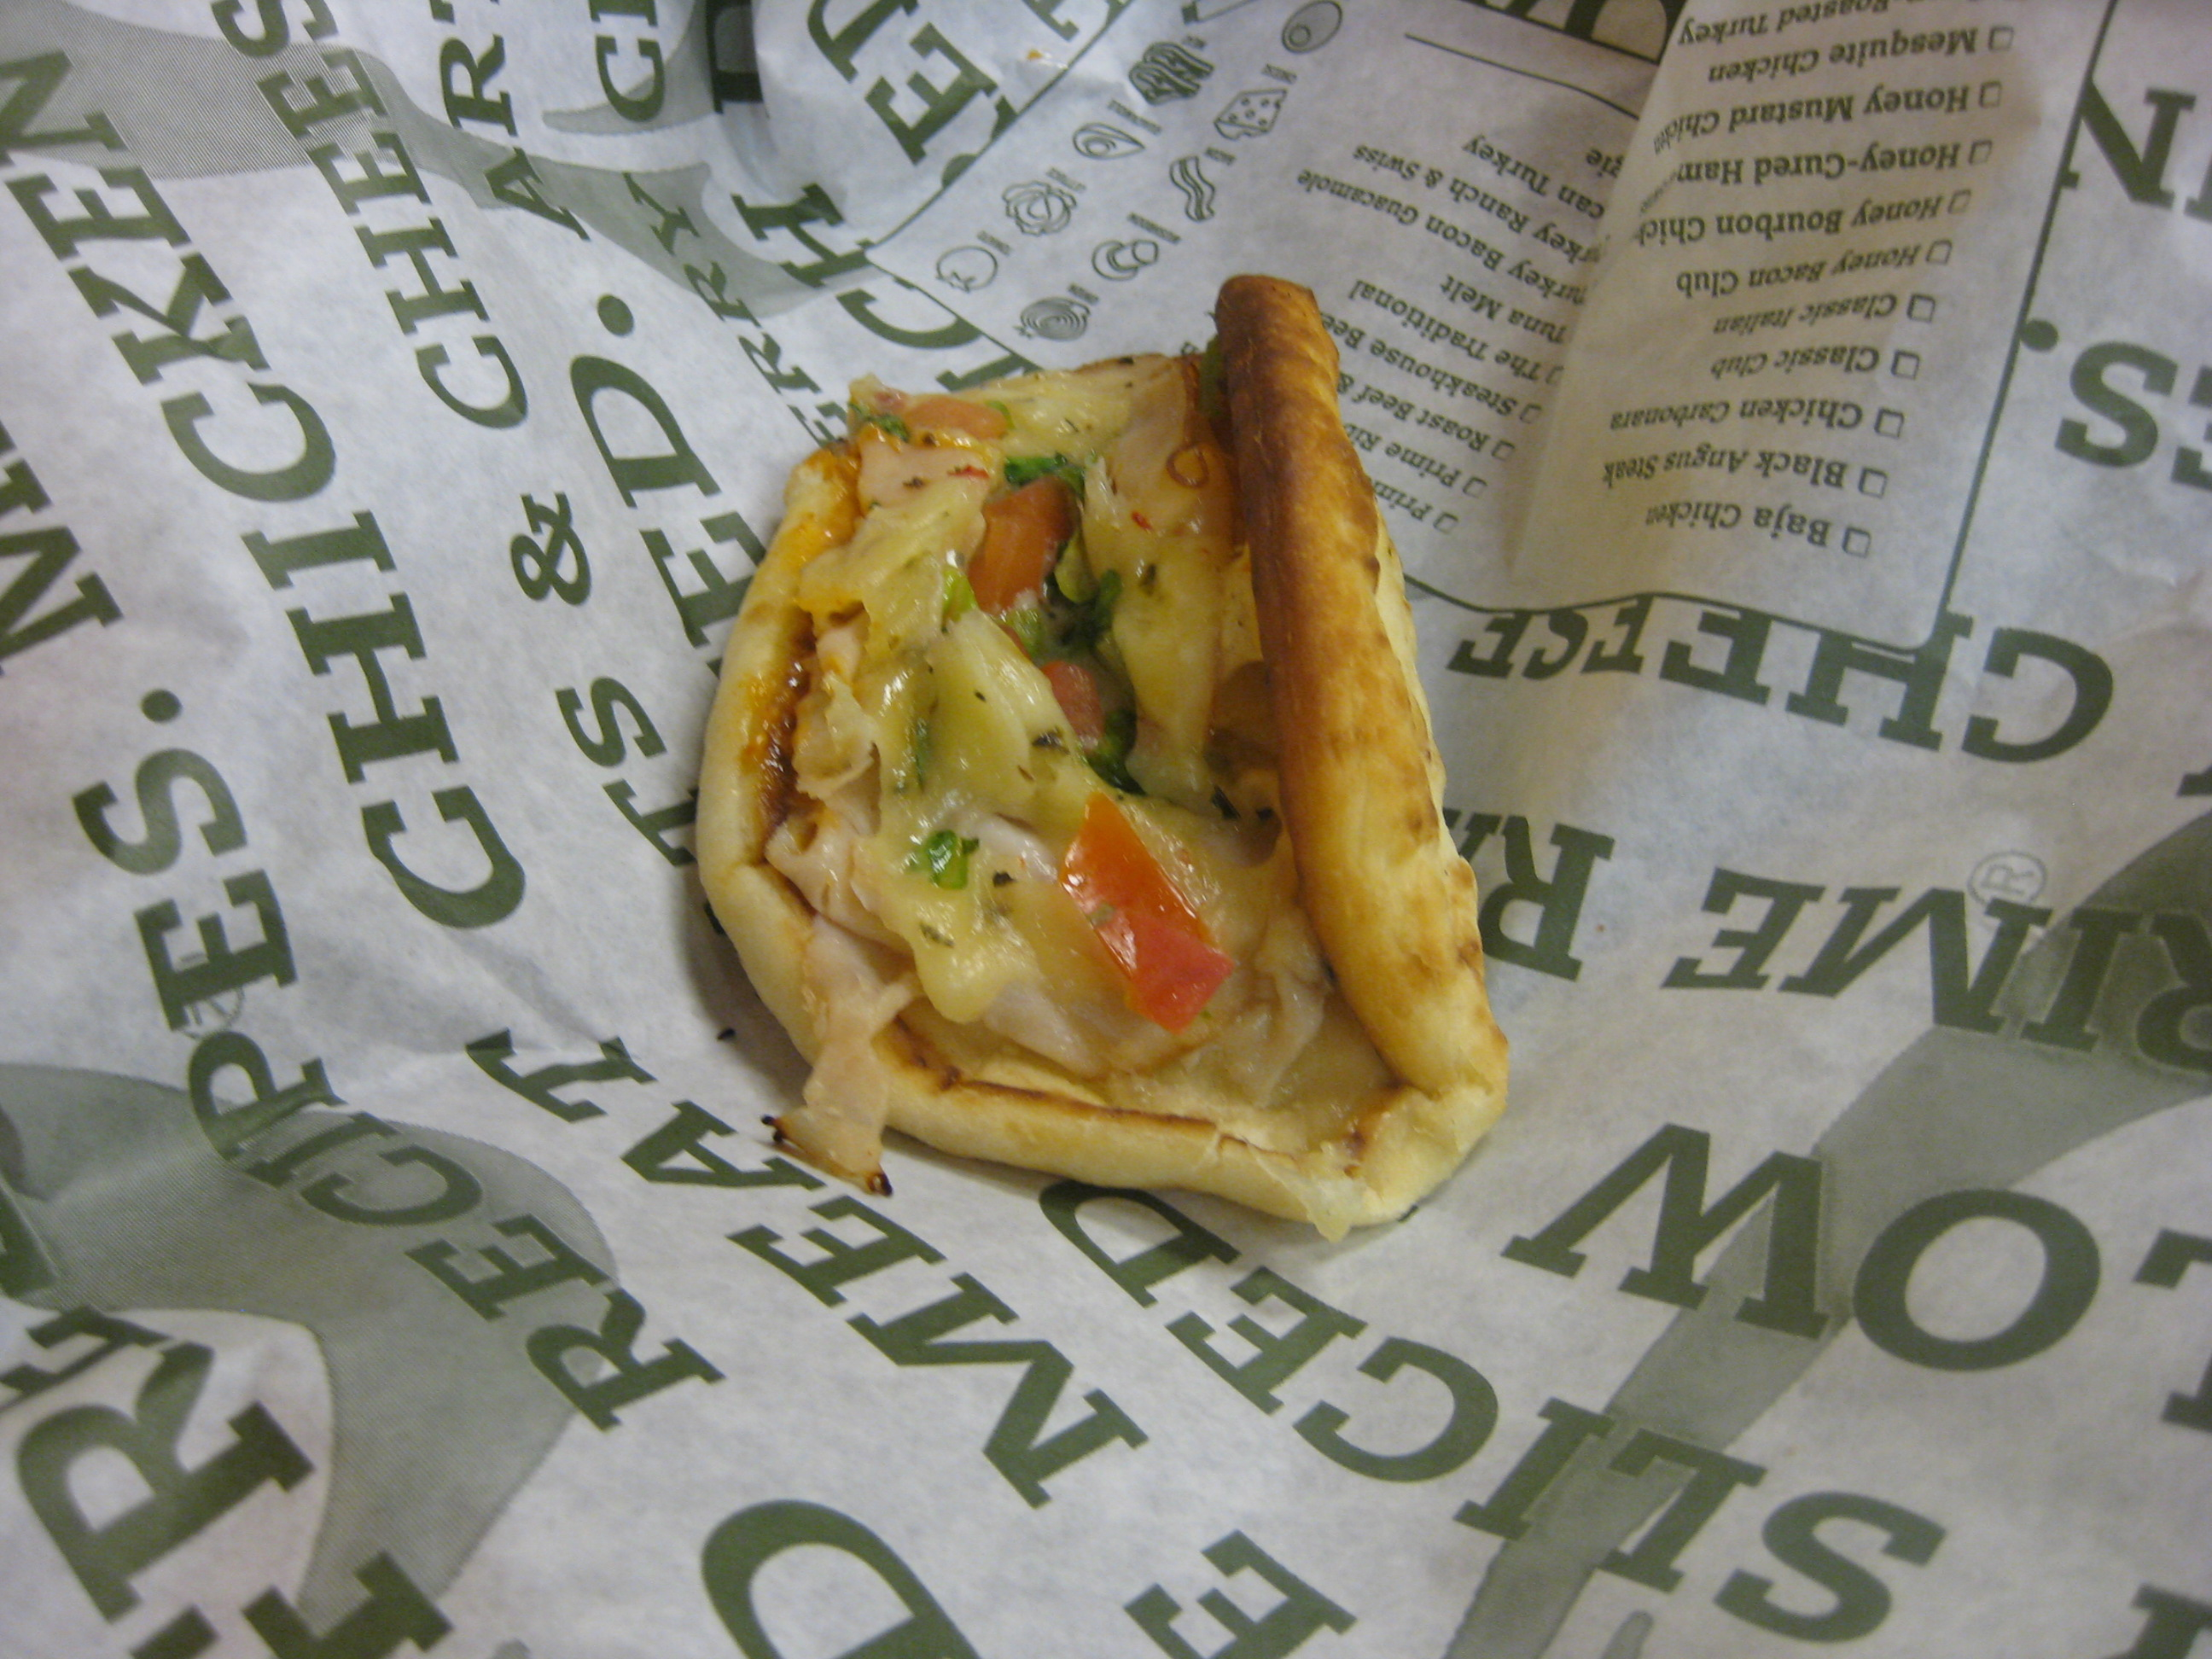taco: (648, 207, 1598, 1249)
